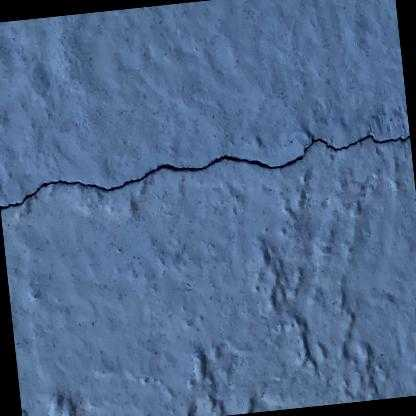crack: (0, 126, 410, 215)
